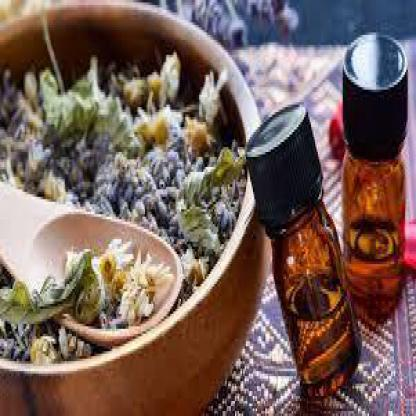Melati: (273, 25, 415, 140)
